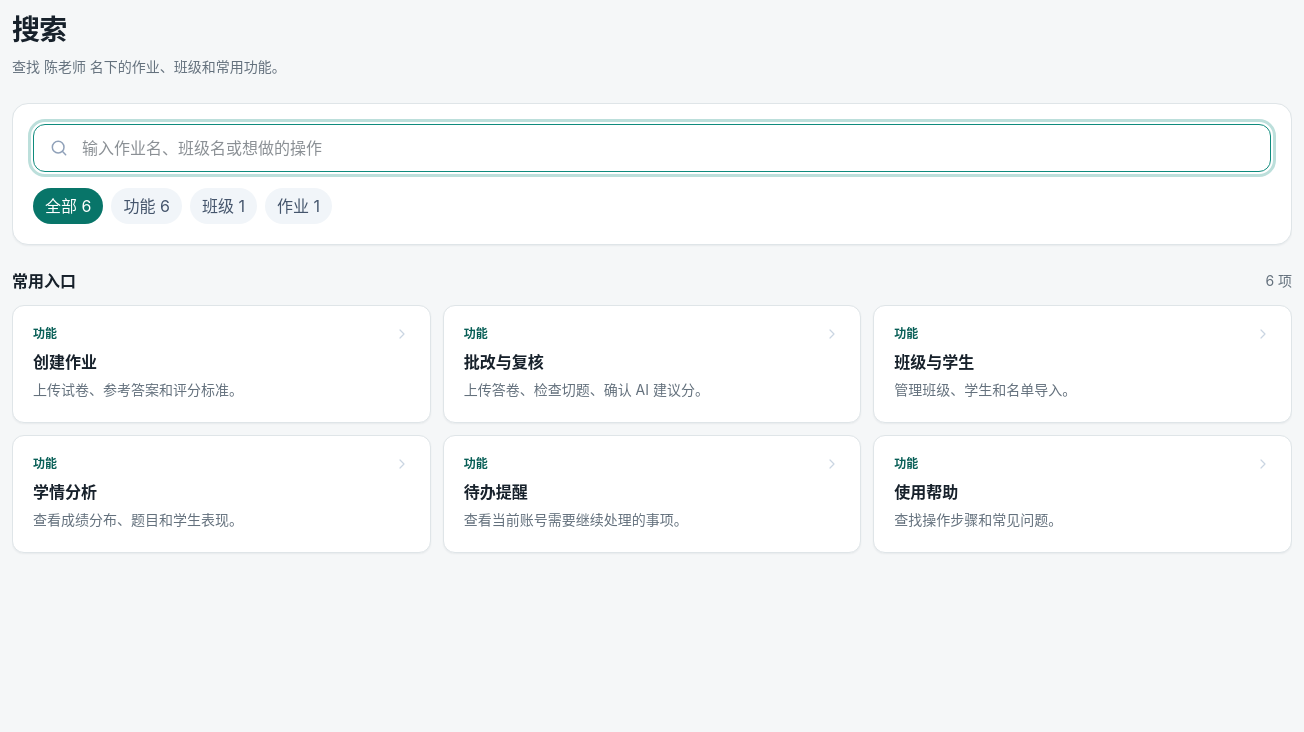
Scenario: supports category filtering, clearing, and action-language search
Expected: the heading "常用入口" is shown, top-left (12, 269), bottom-right (76, 293)
Type "确认建议分" into the field with placeholder "输入作业名、班级名或想做的操作".
click(652, 148); type("确认建议分")  # box top-left (33, 124), bottom-right (1271, 172)
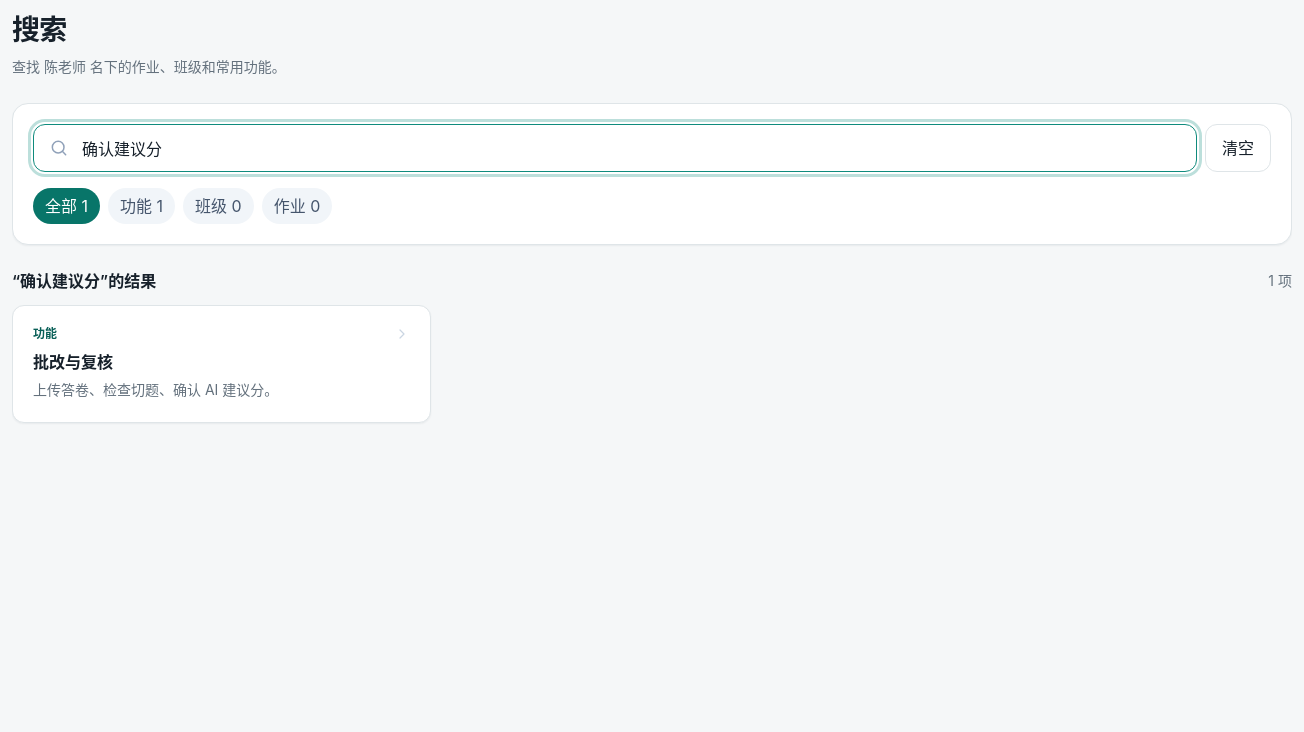
Expected: the heading "批改与复核" is shown, top-left (33, 352), bottom-right (113, 372)
Click the button "作业 0".
click(297, 206)  # box top-left (262, 188), bottom-right (332, 224)
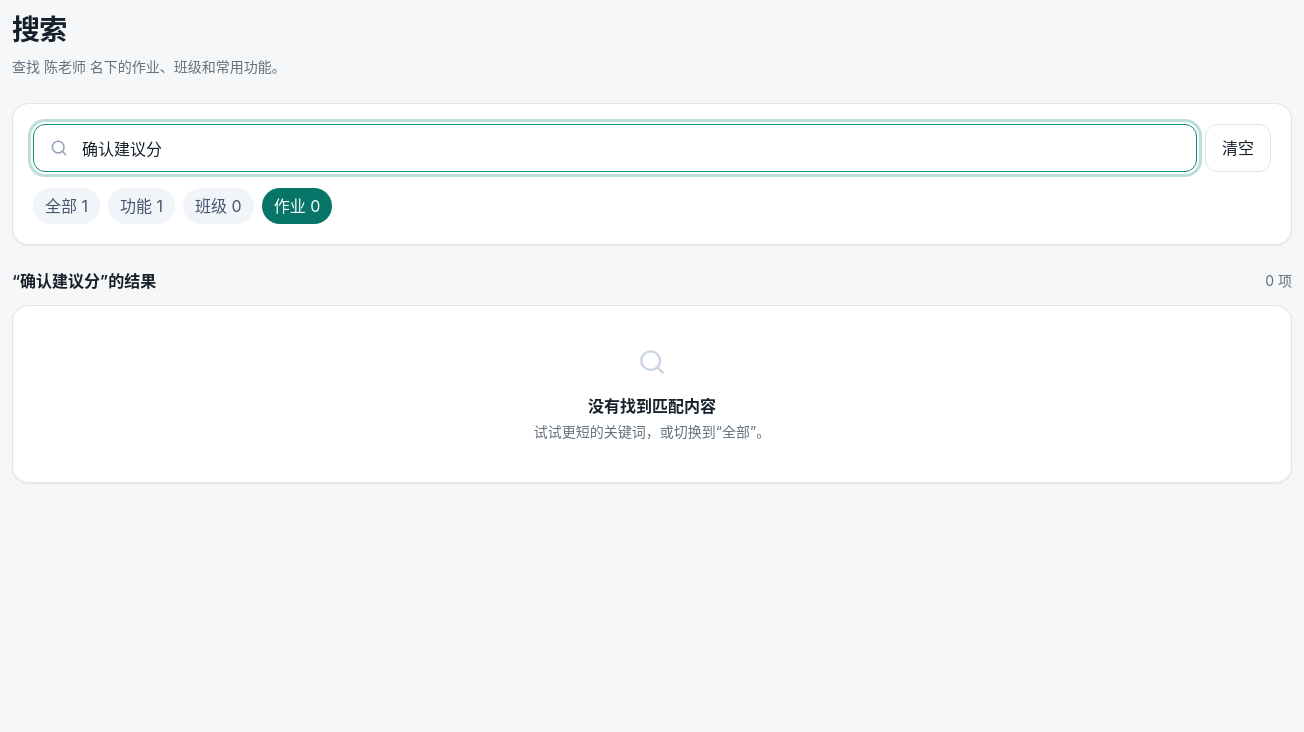
Expected: the heading "没有找到匹配内容" is shown, top-left (588, 396), bottom-right (716, 416)
Click the button "清空".
click(1238, 148)  # box top-left (1205, 124), bottom-right (1271, 172)
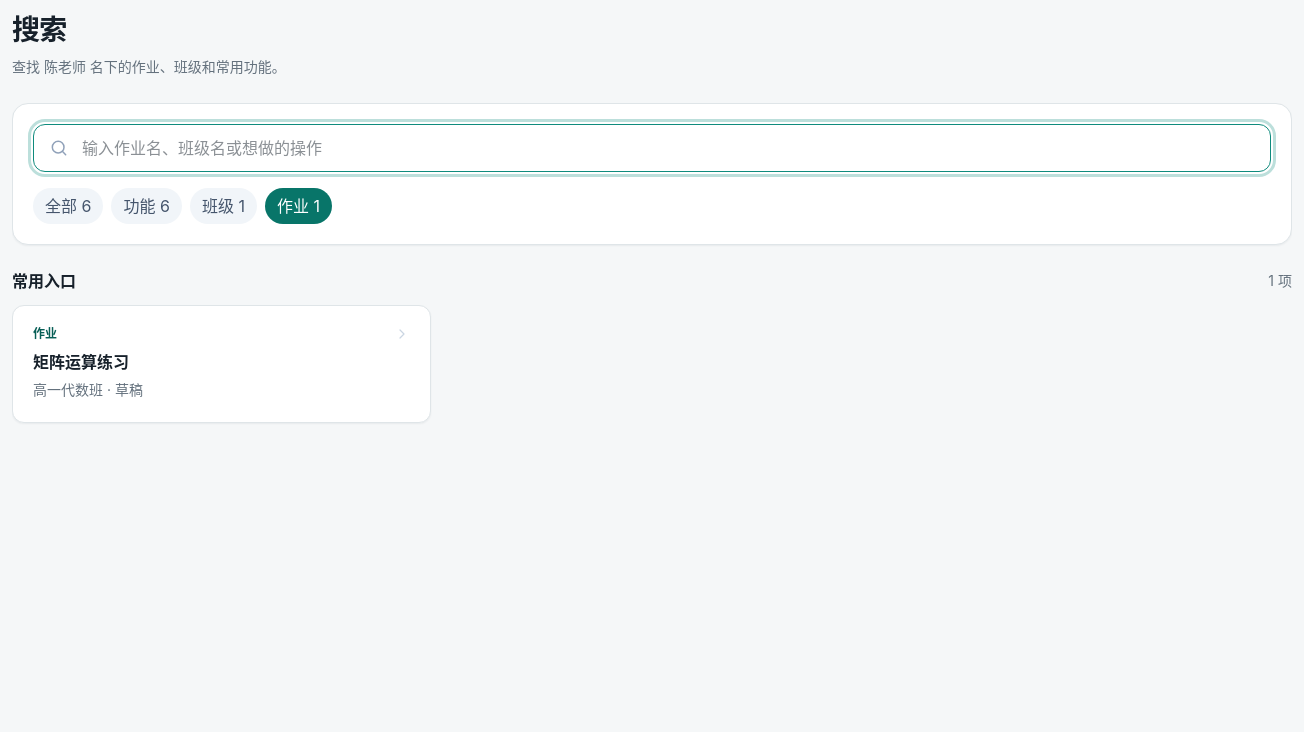
Expected: the field with placeholder "输入作业名、班级名或想做的操作" is empty, top-left (33, 124), bottom-right (1271, 172)
